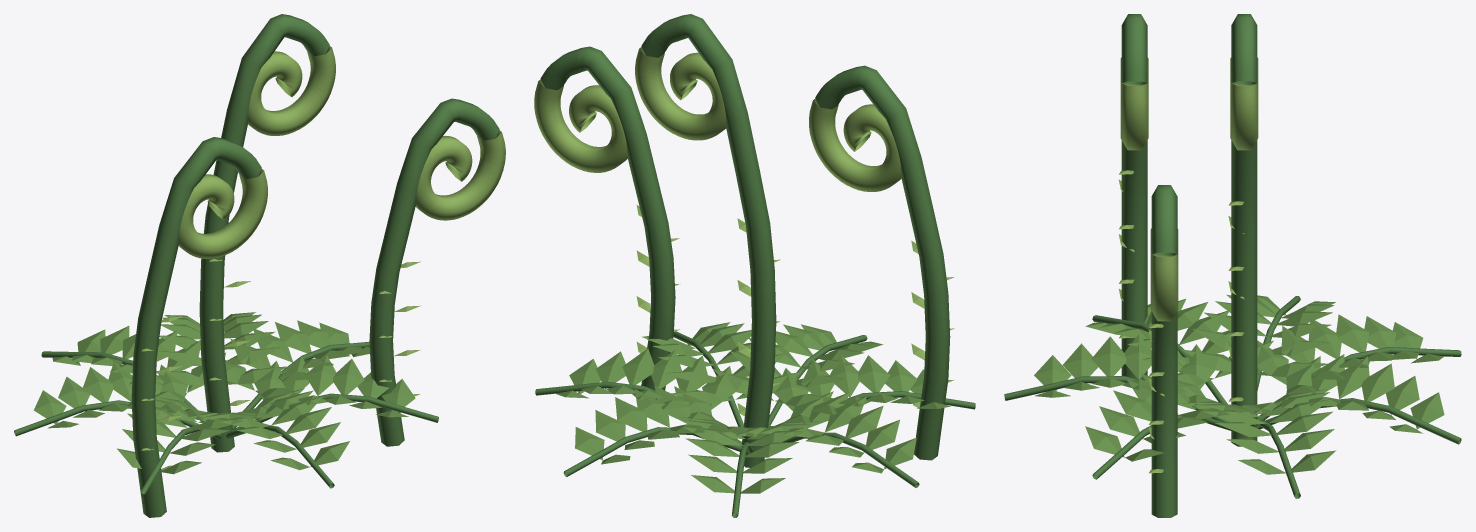
The model's file is fiddlehead_ferns.glb.
The picture shows the model from 3 angles, left to right: view 1: azimuth 30°, elevation 25°; view 2: azimuth 150°, elevation 25°; view 3: azimuth 270°, elevation 25°; orthographic projection. The views are drawn at different scales.
Visible parts, largest first — view 1: Pigment_527d46, Pigment_668f4b, Pigment_89ad5b; view 2: Pigment_527d46, Pigment_668f4b, Pigment_89ad5b; view 3: Pigment_668f4b, Pigment_527d46, Pigment_89ad5b.
Boxes of the visible parts, <box> form: Pigment_527d46: <box>14,14,499,517</box>; Pigment_668f4b: <box>33,312,415,474</box>; Pigment_89ad5b: <box>141,46,505,470</box>; Pigment_527d46: <box>535,14,975,517</box>; Pigment_668f4b: <box>556,322,950,493</box>; Pigment_89ad5b: <box>534,47,954,416</box>; Pigment_668f4b: <box>1034,294,1444,474</box>; Pigment_527d46: <box>1004,14,1461,517</box>; Pigment_89ad5b: <box>1118,57,1258,473</box>.
Size of the model in its own units: 5.44 by 5.07 by 4.58.
